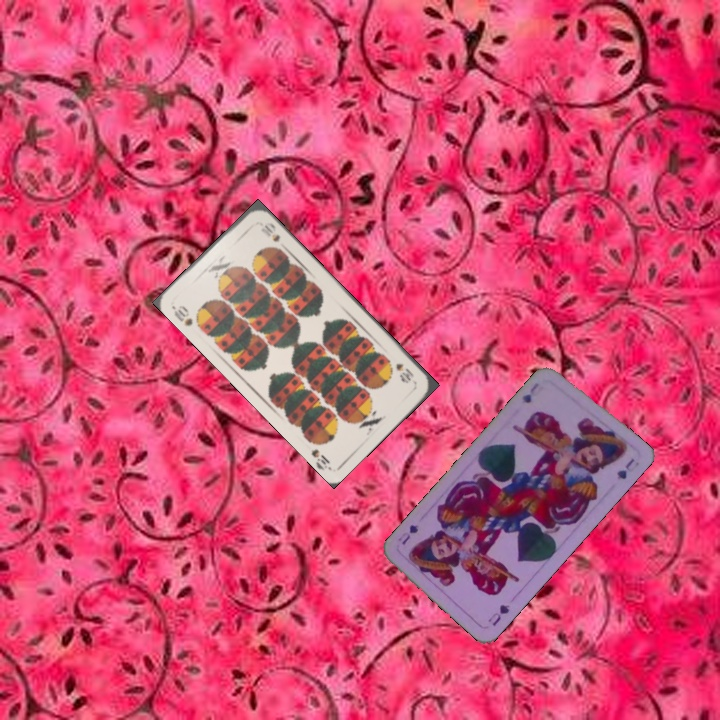GU: (484, 600, 512, 629), (518, 378, 541, 406)
S10: (168, 301, 195, 329), (392, 359, 418, 386)
